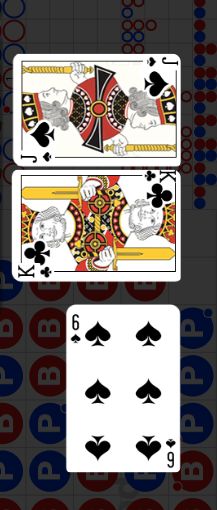6S: (164, 436, 177, 469), (69, 313, 82, 346)
JS: (132, 55, 179, 99), (12, 122, 58, 166)
